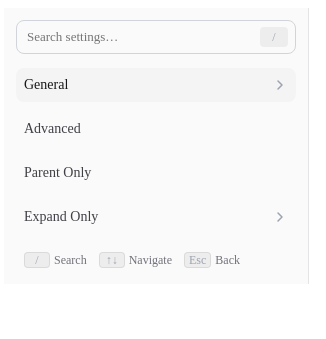
Scenario: SetteraSidebar › toggles children visibility on click for parent with sections
Expected: the text "Privacy" is not shown
What coordinates should you click on to do the following:
click the button "General"
I would click on:
 (46, 84)
Its box is x1=16 y1=68 x2=296 y2=102.
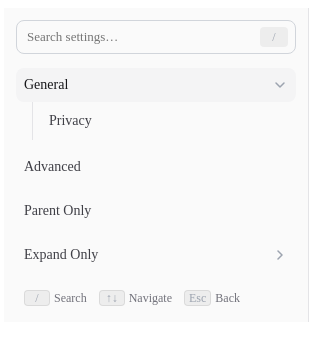
Expected: the button "Privacy" is shown, x1=41 y1=104 x2=296 y2=138
